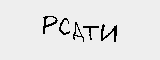М: (42, 15, 70, 35), (81, 22, 98, 40)
Н: (100, 23, 121, 42)
Х: (66, 20, 84, 38)
Я: (119, 24, 142, 44)
Ү: (17, 14, 42, 35)
